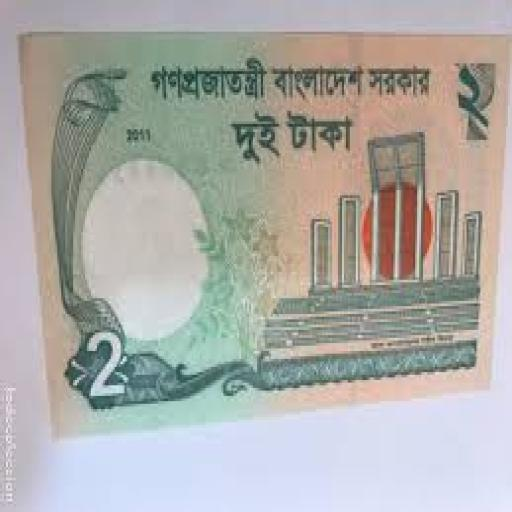2taka: (20, 34, 510, 433)
